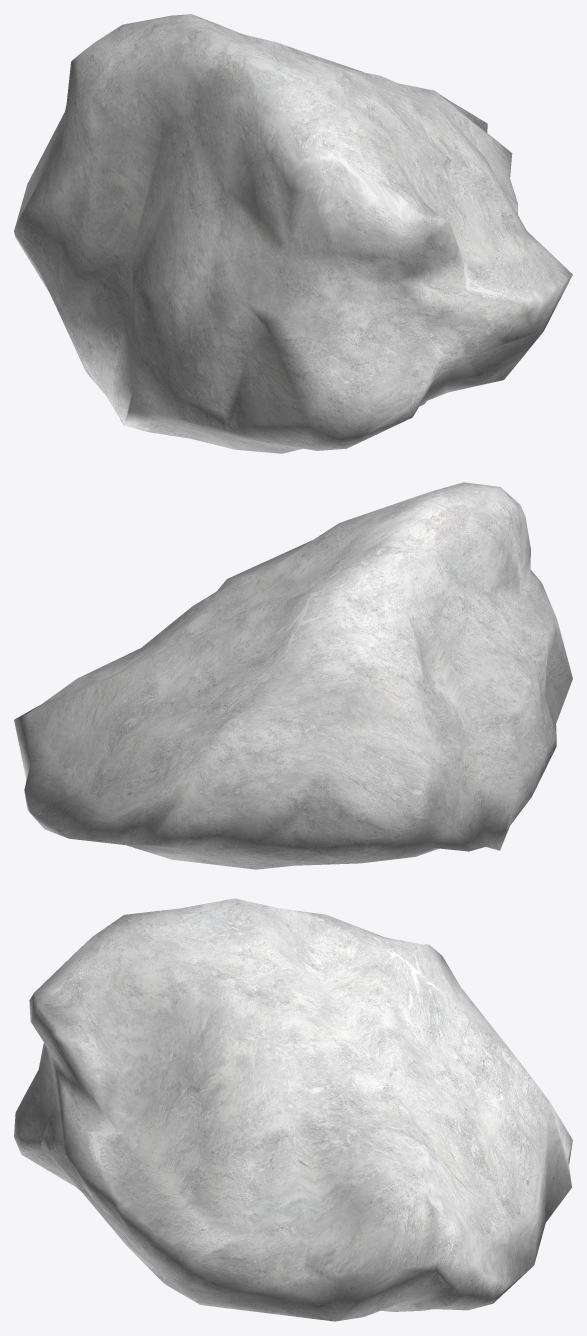
The model's file is rock_00H_lp.fbx.
The picture shows the model from 3 angles, top to bottom: view 1: azimuth 30°, elevation 25°; view 2: azimuth 150°, elevation 25°; view 3: azimuth 270°, elevation 25°; orthographic projection. The views are drawn at different scales.
Visible parts, largest first — view 1: rock_00H_lp; view 2: rock_00H_lp; view 3: rock_00H_lp.
Boxes of the visible parts, <box> form: rock_00H_lp: <box>14,14,572,453</box>; rock_00H_lp: <box>14,482,572,869</box>; rock_00H_lp: <box>14,898,572,1321</box>.
Bounding box in the file's own units: 124 × 97.93 × 152.
